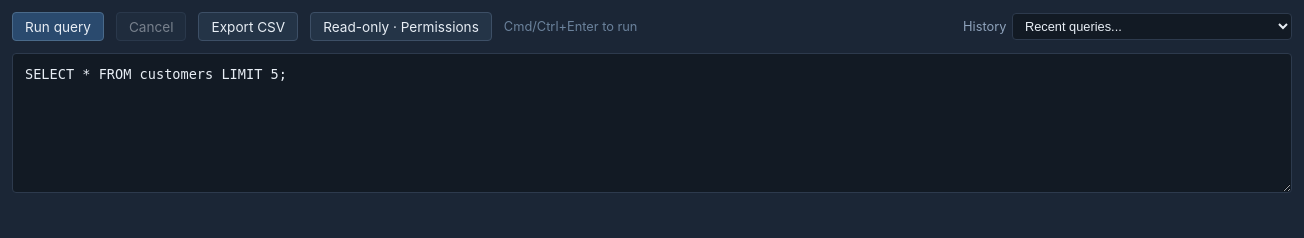
SqlEditor permissions › reports exports and lets them be cancelled
This screenshot has width=1304, height=238.
Expected: the button "Read-only · Permissions" is shown, [310,12,492,41]
Click the button "Export CSV": (248, 27) [198,12,298,41]
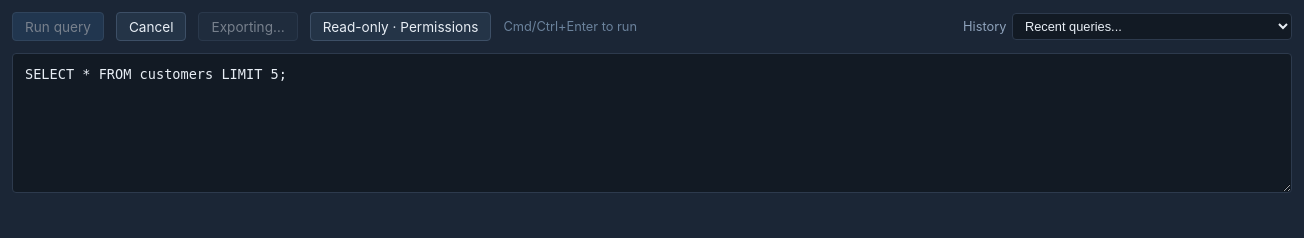
Now the button "Cancel" is enabled
Click the button "Cancel": (151, 27) [116,12,186,41]
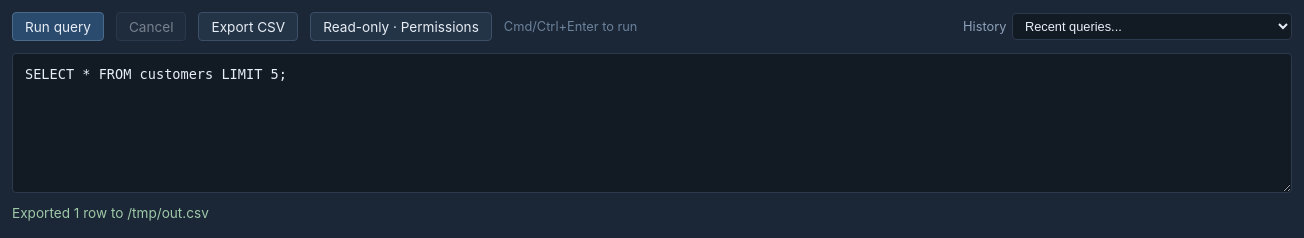
Now the text "Exported 1 row to /tmp/out.csv" is shown, box [12,205,209,221]
